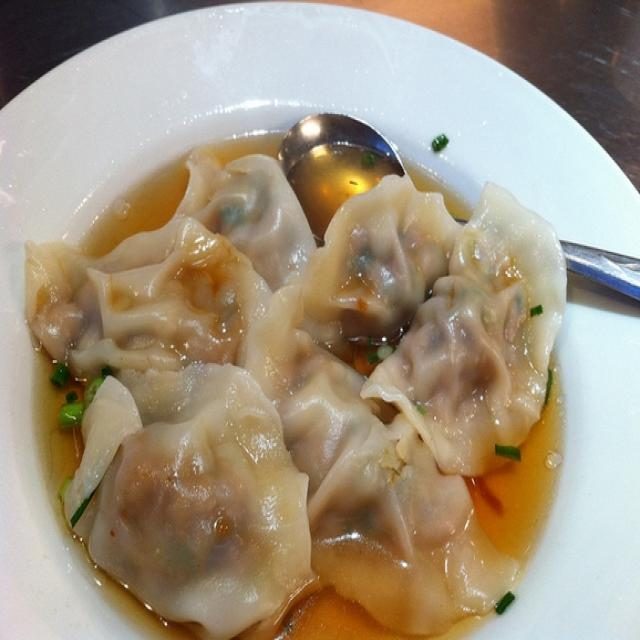带馅早点: (1, 21, 633, 631)
